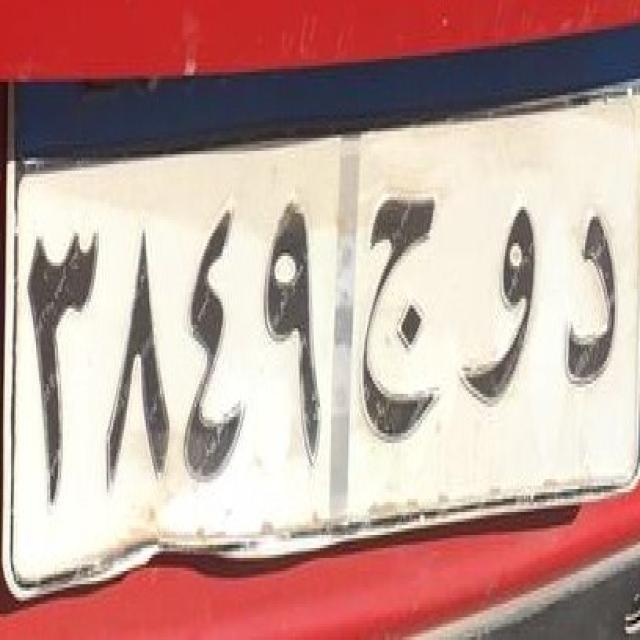3: (12, 211, 104, 521)
4: (174, 203, 255, 497)
8: (102, 228, 185, 513)
9: (256, 208, 334, 466)
Wow: (461, 194, 552, 424)
daal: (559, 191, 633, 403)
geem: (354, 180, 458, 458)
